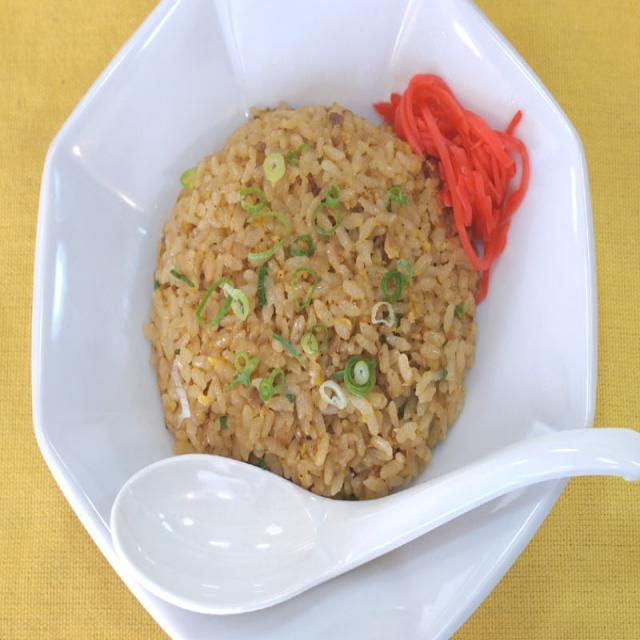米饭主食: (38, 0, 604, 640)
